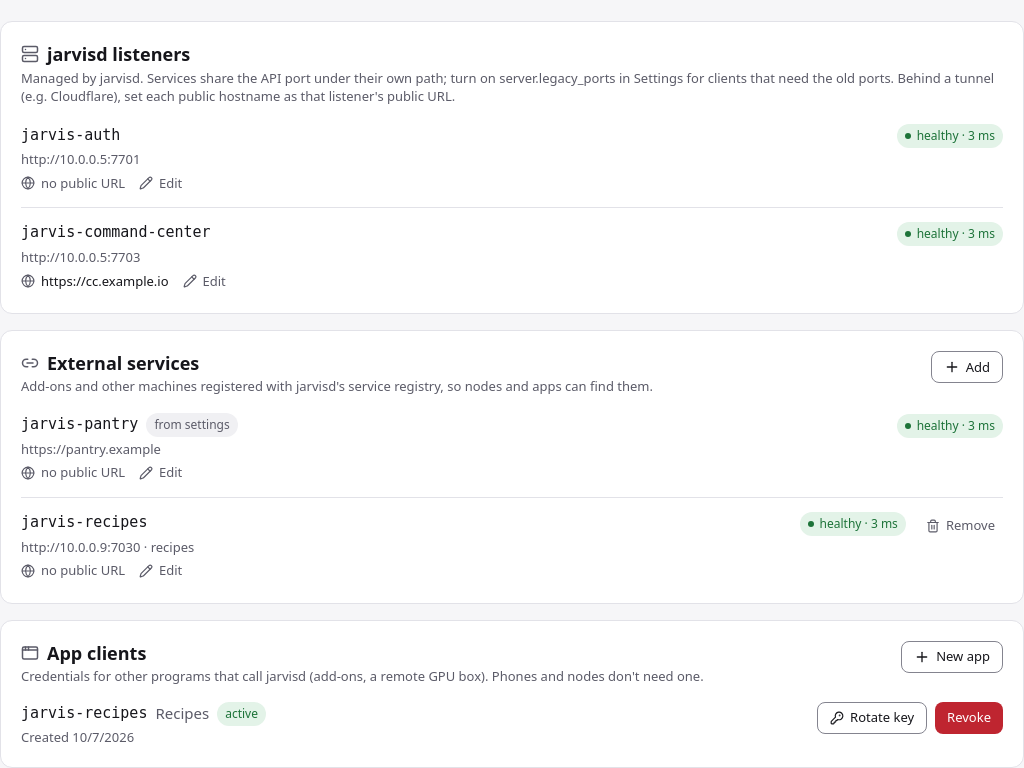
Test: ConnectionsPage (AD7) › rotating shows the new key once
(page scrolled)
Step 1. Click the button "Rotate key" → (872, 718), box [817,702,927,734]
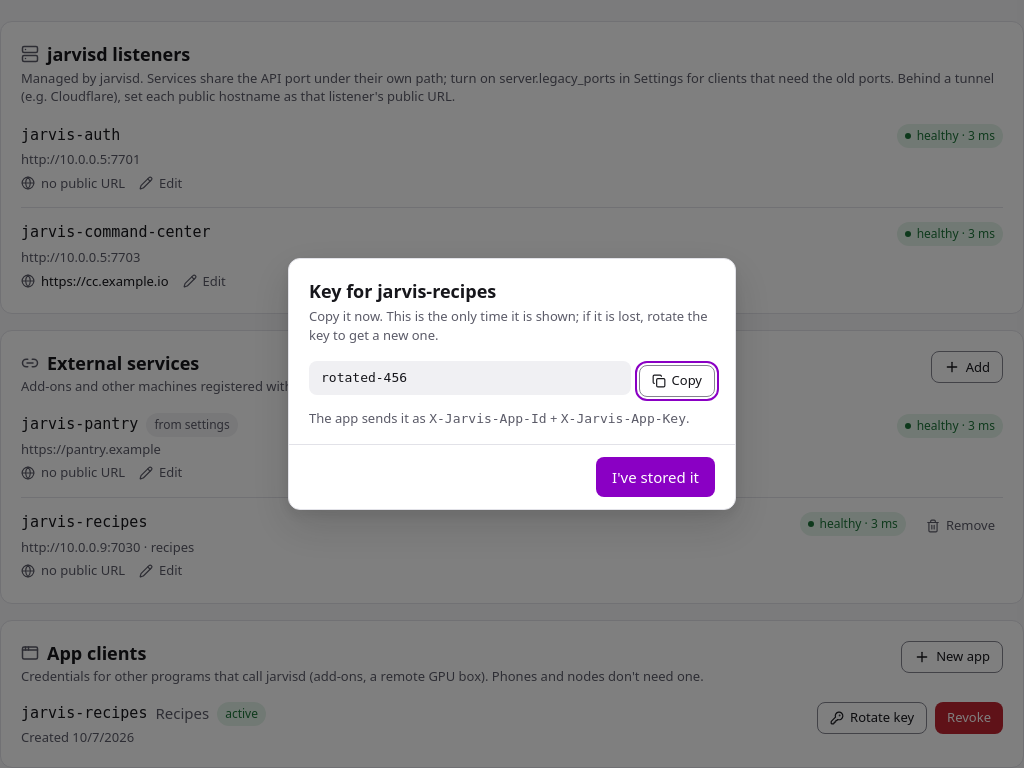
Expected: the text with test id "app-key" reads "rotated-456", [321,370,407,385]
